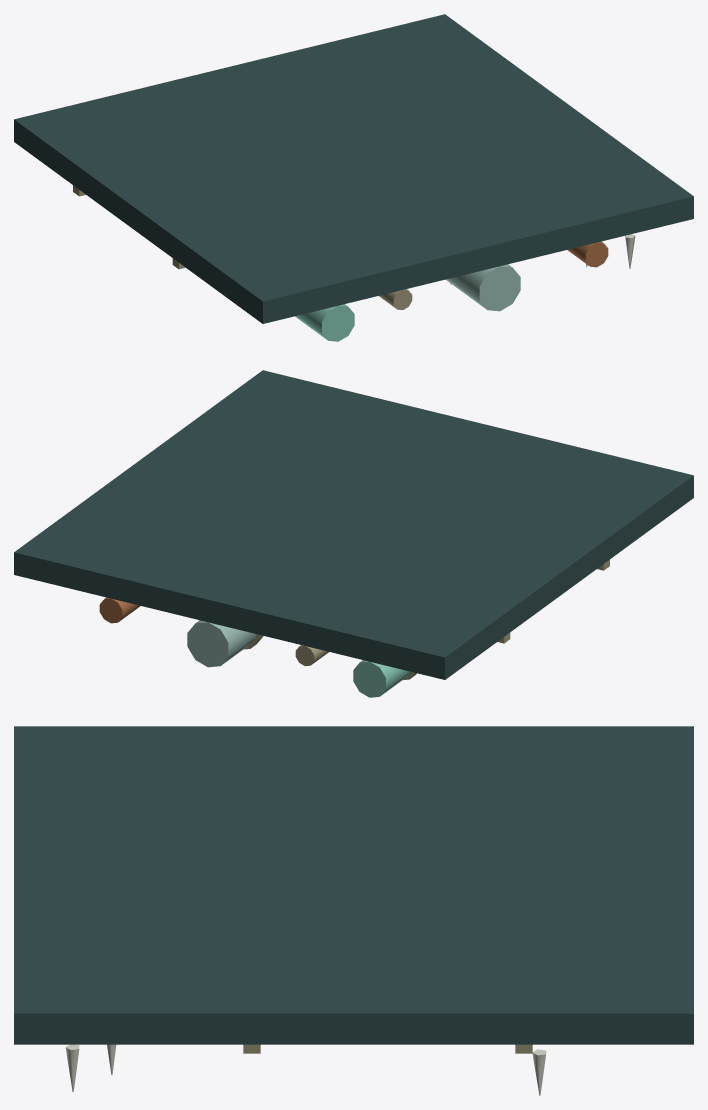
Rendered from ceil_dr_works.glb.
The picture shows the model from 3 angles, top to bottom: view 1: azimuth 30°, elevation 25°; view 2: azimuth 150°, elevation 25°; view 3: azimuth 270°, elevation 25°; orthographic projection. The views are drawn at different scales.
Visible parts, largest first — view 1: ceil_dr_works; view 2: ceil_dr_works; view 3: ceil_dr_works.
Boxes of the visible parts, bbox=[...] form: ceil_dr_works: bbox=[14, 14, 693, 341]; ceil_dr_works: bbox=[14, 370, 693, 697]; ceil_dr_works: bbox=[14, 726, 693, 1095].
Size of the model in its own units: 4 by 0.8532 by 4.
